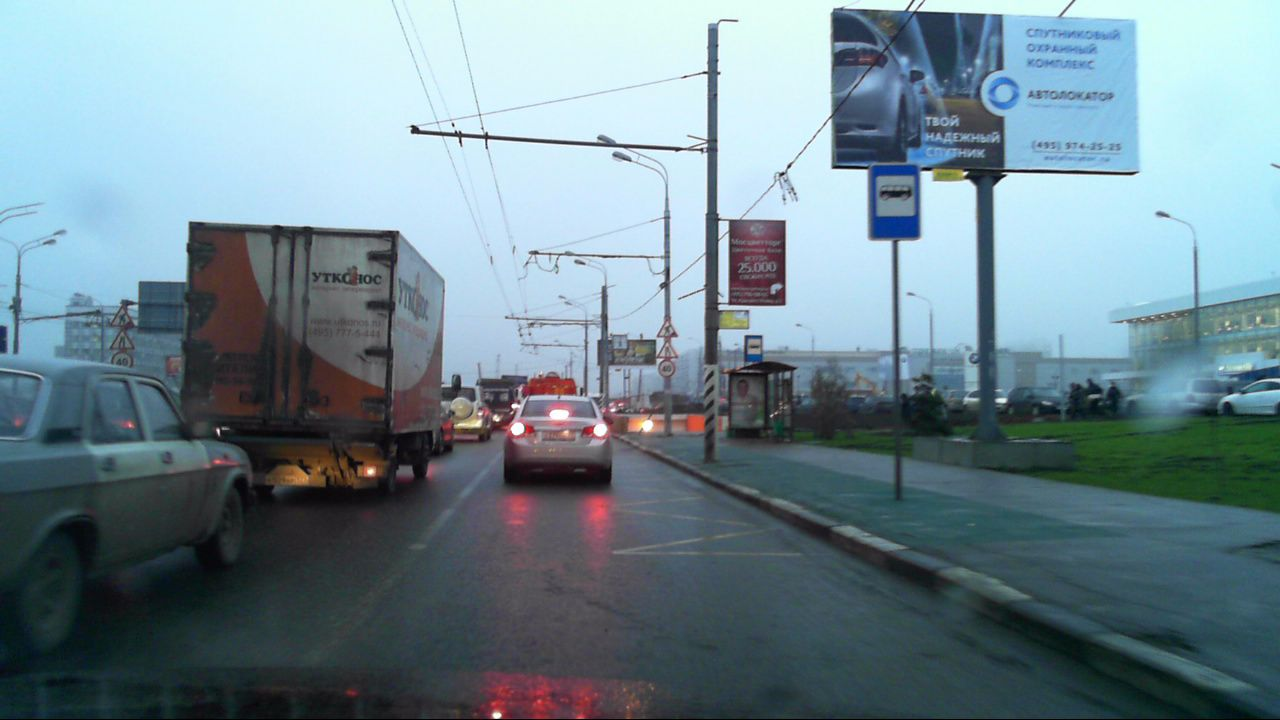speed_warning_40: (110, 351, 132, 371)
